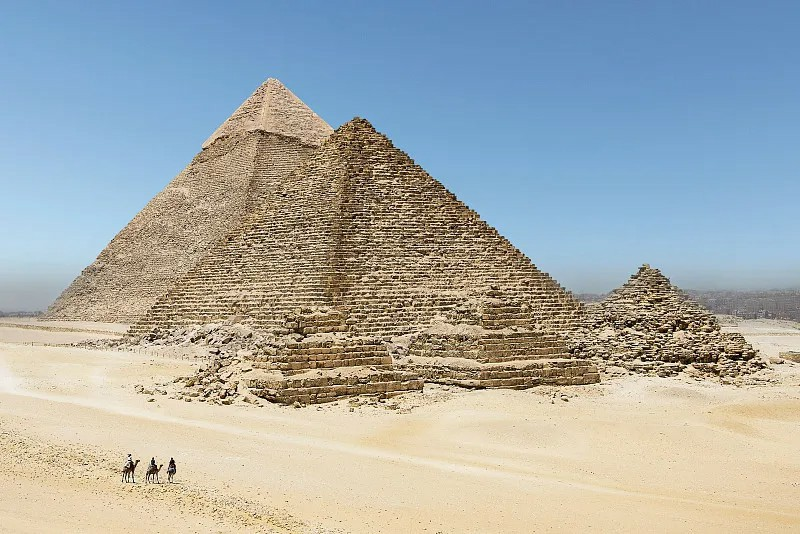Pyramid: (125, 115, 593, 352), (37, 76, 333, 322), (193, 304, 425, 403), (594, 260, 773, 376), (409, 288, 601, 391)
